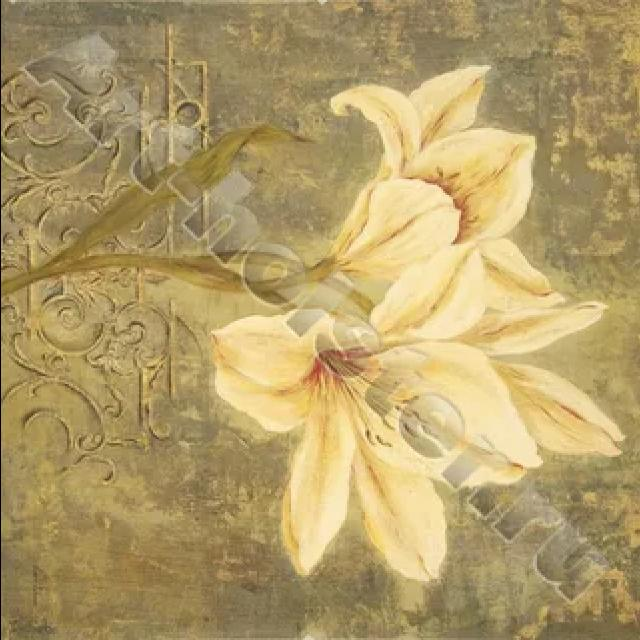lily: (203, 230, 533, 596)
